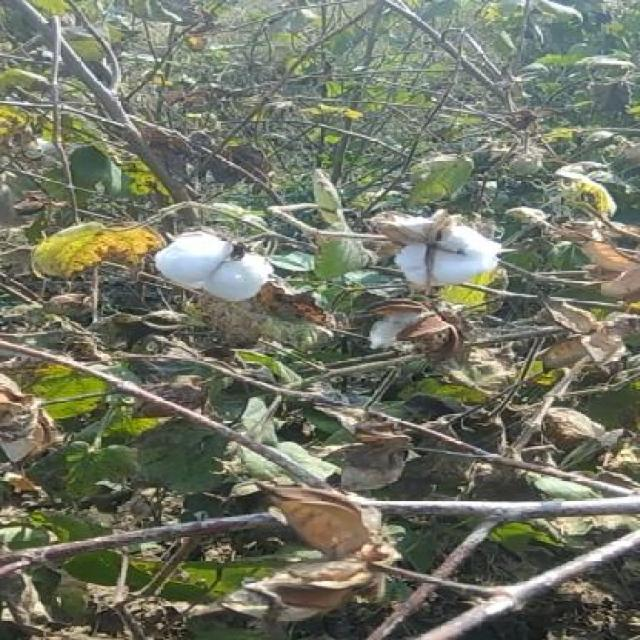cotton_ready: (370, 200, 521, 305), (138, 215, 288, 313)
